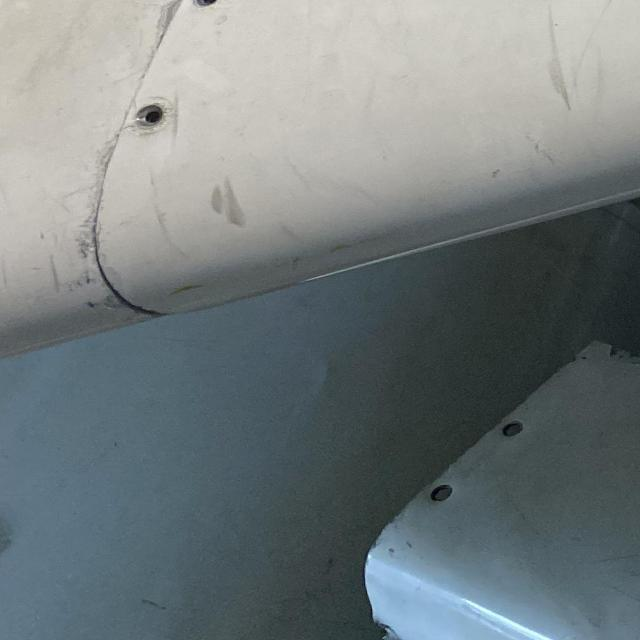Missing_Fastener: (135, 99, 175, 135), (190, 0, 226, 10)
